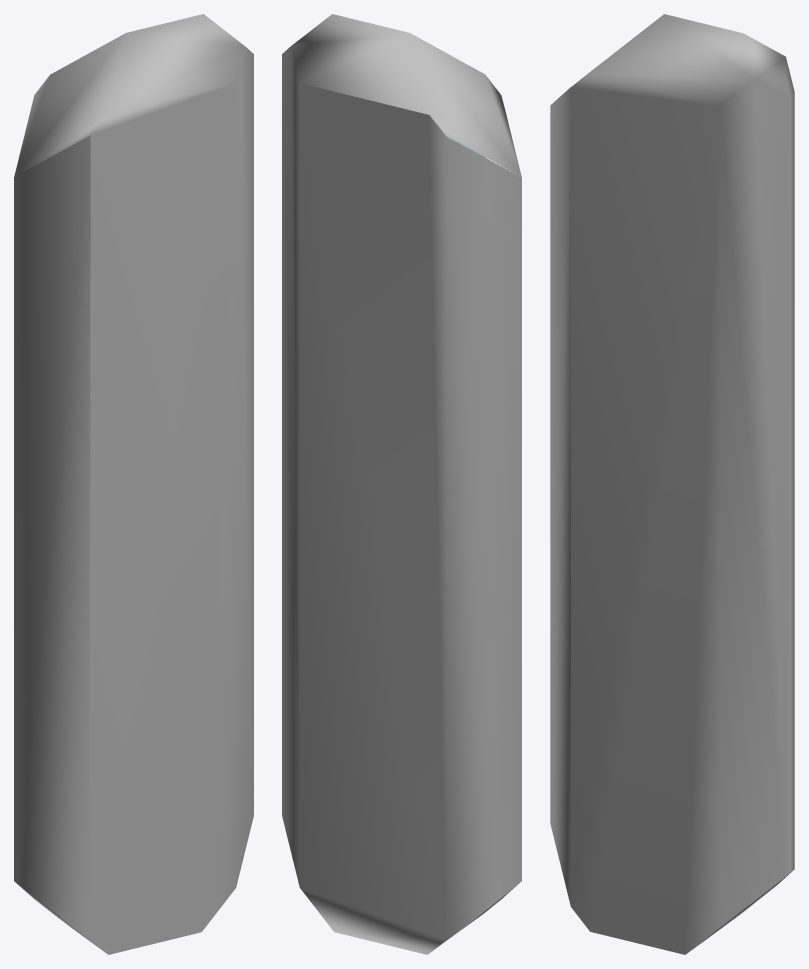
The model's file is SM_Knife.gltf.
The picture shows the model from 3 angles, left to right: view 1: azimuth 30°, elevation 25°; view 2: azimuth 150°, elevation 25°; view 3: azimuth 330°, elevation 25°; orthographic projection.
Parts seen in each view (by area): view 1: SM_Knife_ConvexHulls; view 2: SM_Knife_ConvexHulls; view 3: SM_Knife_ConvexHulls.
Boxes of the visible parts, x1,y1,x2,y2 form: SM_Knife_ConvexHulls: (14,14,253,954); SM_Knife_ConvexHulls: (282,14,521,954); SM_Knife_ConvexHulls: (550,14,794,954).
Size of what is drawn, in the model's own units: 0.1901 by 0.685 by 0.0777.
2 materials, 1 textured.
